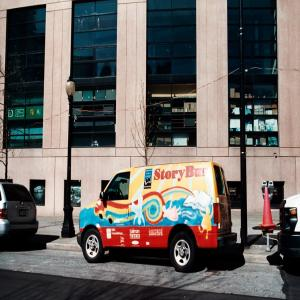Vehicle-registration-plate: (20, 211, 27, 219)
